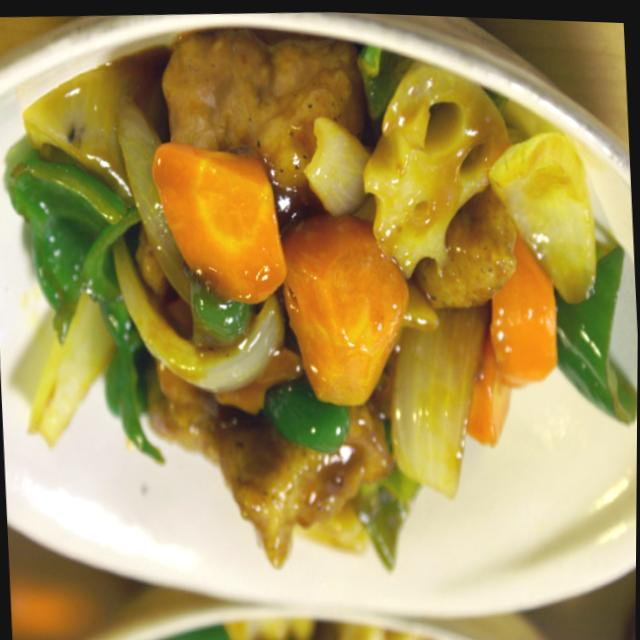猪肉菜式: (0, 0, 640, 602)
